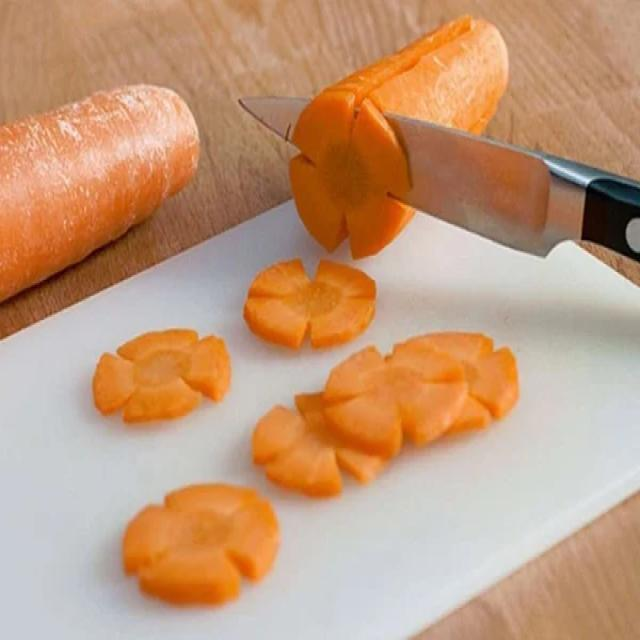ca rot: (289, 16, 507, 258), (252, 333, 517, 496), (0, 85, 198, 301), (123, 483, 278, 603), (93, 330, 230, 422), (243, 259, 375, 349)
